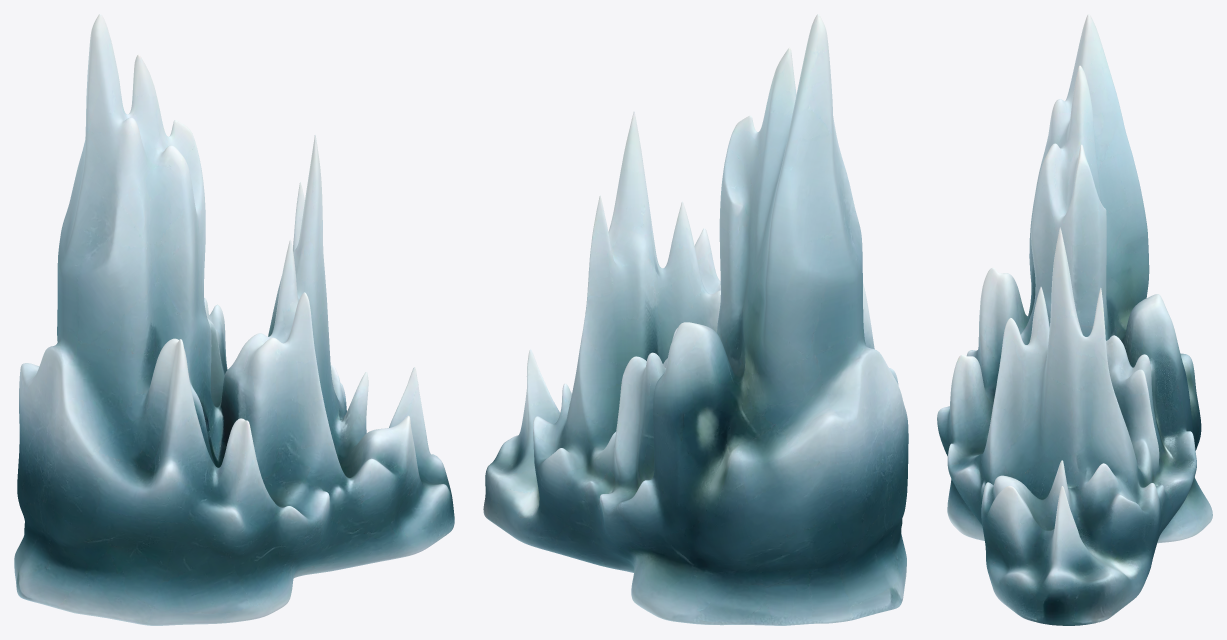
File: stalactite.glb
3 views of the same model, side by side, from view 1: azimuth 30°, elevation 25°; view 2: azimuth 150°, elevation 25°; view 3: azimuth 270°, elevation 25° (orthographic). The views are drawn at different scales.
Parts seen in each view (by area): view 1: Mesh_0.004; view 2: Mesh_0.004; view 3: Mesh_0.004.
Boxes of the visible parts, left/top/right/bottom form: Mesh_0.004: left=14, top=14, right=454, bottom=625; Mesh_0.004: left=483, top=14, right=908, bottom=625; Mesh_0.004: left=937, top=14, right=1212, bottom=625.
Bounding box in the file's own units: 1.45 × 1.9 × 0.9971.
1 material, 1 textured.
